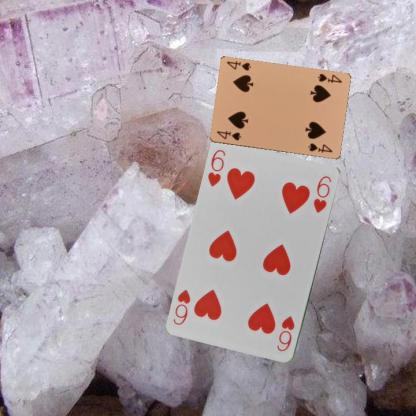4s: (214, 128, 242, 142), (315, 71, 343, 84)
6h: (205, 147, 227, 188), (274, 313, 296, 353)
